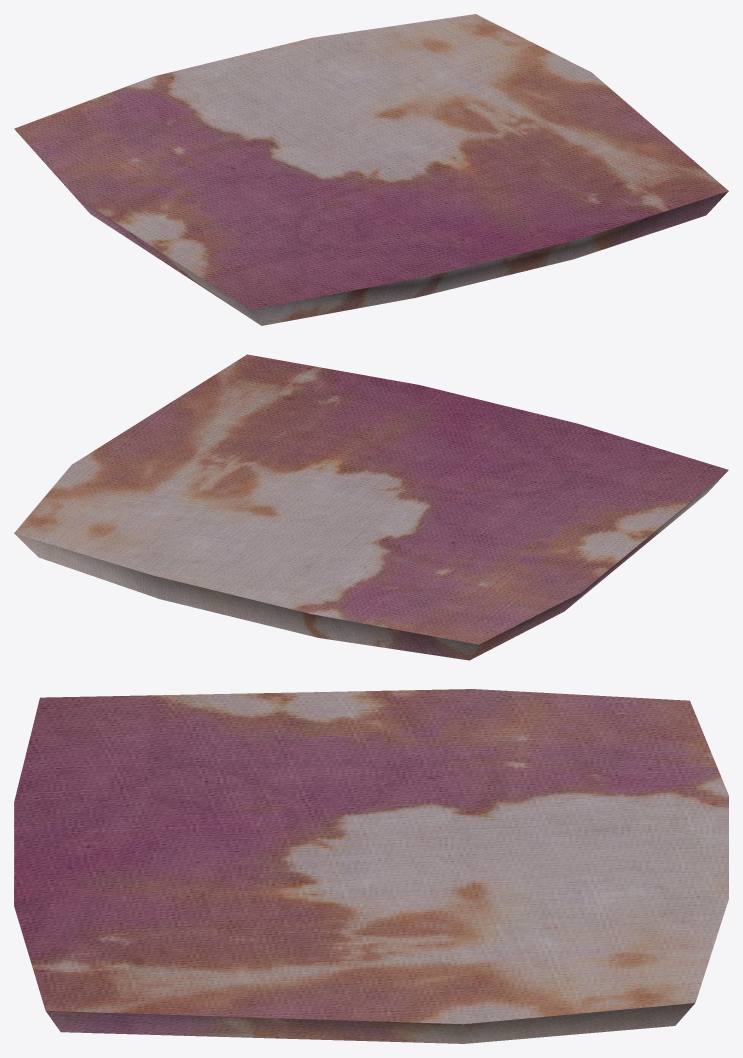
The model's file is ClothOrdenada2.fbx.
3 renders of one model, top to bottom at view 1: azimuth 30°, elevation 25°; view 2: azimuth 150°, elevation 25°; view 3: azimuth 270°, elevation 25°, orthographic. The views are drawn at different scales.
Visible parts, largest first — view 1: Cloth_Ordenada2; view 2: Cloth_Ordenada2; view 3: Cloth_Ordenada2.
Part boxes in pixels (bbox=[...]): Cloth_Ordenada2: bbox=[14, 14, 728, 325]; Cloth_Ordenada2: bbox=[14, 354, 728, 660]; Cloth_Ordenada2: bbox=[14, 689, 728, 1043].
Size of the model in its own units: 172 by 9.4 by 155.
1 material, 1 textured.
